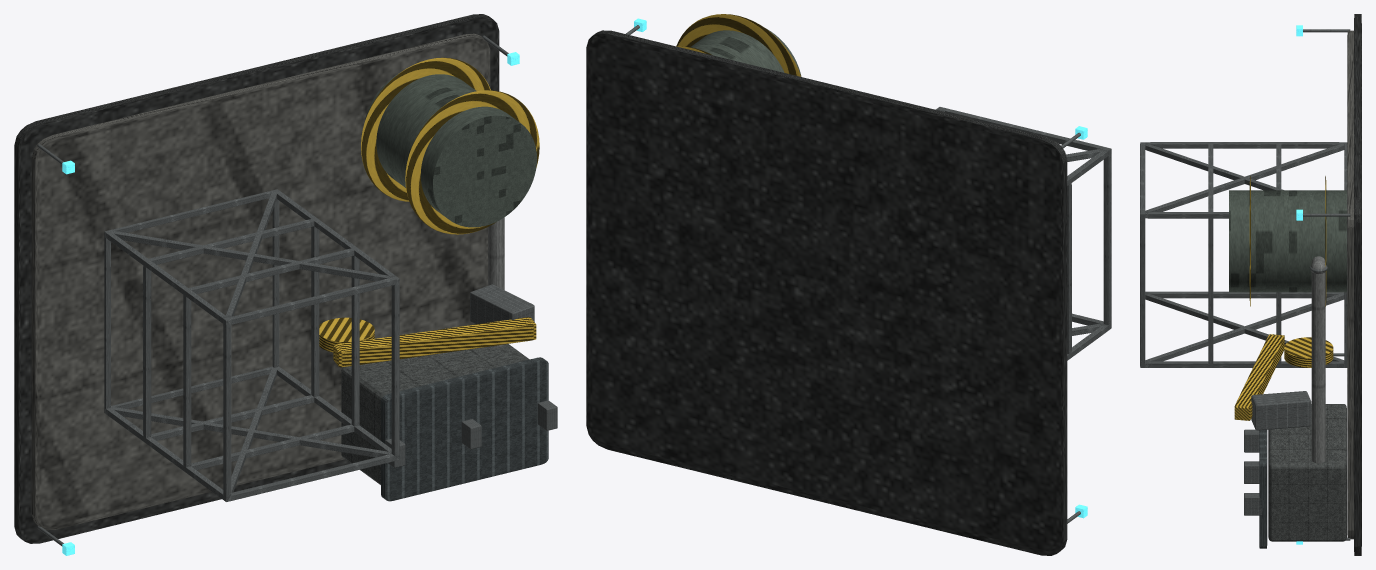
Rendered from b-11-oil-pump-lod0.glb.
3 views of the same model, side by side, from view 1: azimuth 30°, elevation 25°; view 2: azimuth 150°, elevation 25°; view 3: azimuth 270°, elevation 25° (orthographic). The views are drawn at different scales.
Parts seen in each view (by area): view 1: foundation_inner_pad, foundation, pump_house_roof, oil_storage_tank_vessel, pump_house_main_hall, pumpjack_beam, oil_storage_tank_ring_high, oil_storage_tank_ring_low, primary_oil_derrick_brace_a_2.1, primary_oil_derrick_brace_a_-2.1, pumpjack_horsehead, primary_oil_derrick_beam_y_3_w (+23 smaller); view 2: foundation, oil_storage_tank_ring_high, oil_storage_tank_vessel, primary_oil_derrick_beam_y_3_w, primary_oil_derrick_beam_x_3_n, primary_oil_derrick_beam_y_2_w; view 3: oil_storage_tank_vessel, pump_house_main_hall, foundation, foundation_inner_pad, oil_export_pipe_segment_2, pumpjack_horsehead, pumpjack_beam, primary_oil_derrick_brace_a_2.1, primary_oil_derrick_brace_a_-2.1, primary_oil_derrick_column_w_n, primary_oil_derrick_column_w_s, pump_house_roof (+13 smaller).
Boxes of the visible parts, x1=… form: foundation_inner_pad: x1=31, y1=33, x2=490, y2=530; foundation: x1=14, y1=14, x2=499, y2=543; pump_house_roof: x1=381, y1=357, x2=548, y2=501; oil_storage_tank_vessel: x1=364, y1=72, x2=536, y2=227; pump_house_main_hall: x1=341, y1=344, x2=529, y2=484; pumpjack_beam: x1=333, y1=317, x2=536, y2=367; oil_storage_tank_ring_high: x1=405, y1=90, x2=539, y2=234; oil_storage_tank_ring_low: x1=361, y1=57, x2=490, y2=201; primary_oil_derrick_brace_a_2.1: x1=111, y1=231, x2=391, y2=281; primary_oil_derrick_brace_a_-2.1: x1=111, y1=407, x2=391, y2=457; pumpjack_horsehead: x1=470, y1=284, x2=534, y2=324; primary_oil_derrick_beam_y_3_w: x1=223, y1=317, x2=231, y2=501; foundation: x1=586, y1=30, x2=1067, y2=555; oil_storage_tank_ring_high: x1=676, y1=14, x2=800, y2=76; oil_storage_tank_vessel: x1=690, y1=28, x2=801, y2=76; primary_oil_derrick_beam_y_3_w: x1=1103, y1=147, x2=1111, y2=325; primary_oil_derrick_beam_x_3_n: x1=941, y1=108, x2=1111, y2=155; primary_oil_derrick_beam_y_2_w: x1=1067, y1=183, x2=1071, y2=354; oil_storage_tank_vessel: x1=1229, y1=190, x2=1346, y2=292; pump_house_main_hall: x1=1268, y1=404, x2=1346, y2=541; foundation: x1=1354, y1=14, x2=1361, y2=555; foundation_inner_pad: x1=1347, y1=30, x2=1353, y2=539; oil_export_pipe_segment_2: x1=1311, y1=272, x2=1325, y2=463; pumpjack_horsehead: x1=1251, y1=391, x2=1311, y2=430; pumpjack_beam: x1=1234, y1=334, x2=1284, y2=420; primary_oil_derrick_brace_a_2.1: x1=1145, y1=144, x2=1344, y2=211; primary_oil_derrick_brace_a_-2.1: x1=1145, y1=293, x2=1344, y2=361; primary_oil_derrick_column_w_n: x1=1145, y1=142, x2=1344, y2=148; primary_oil_derrick_column_w_s: x1=1145, y1=291, x2=1344, y2=298; pump_house_roof: x1=1259, y1=429, x2=1267, y2=548.
Size of what is drawn, in the model's own units: 12 by 10 by 5.65.
Materials: 10 (10 with a texture image).
